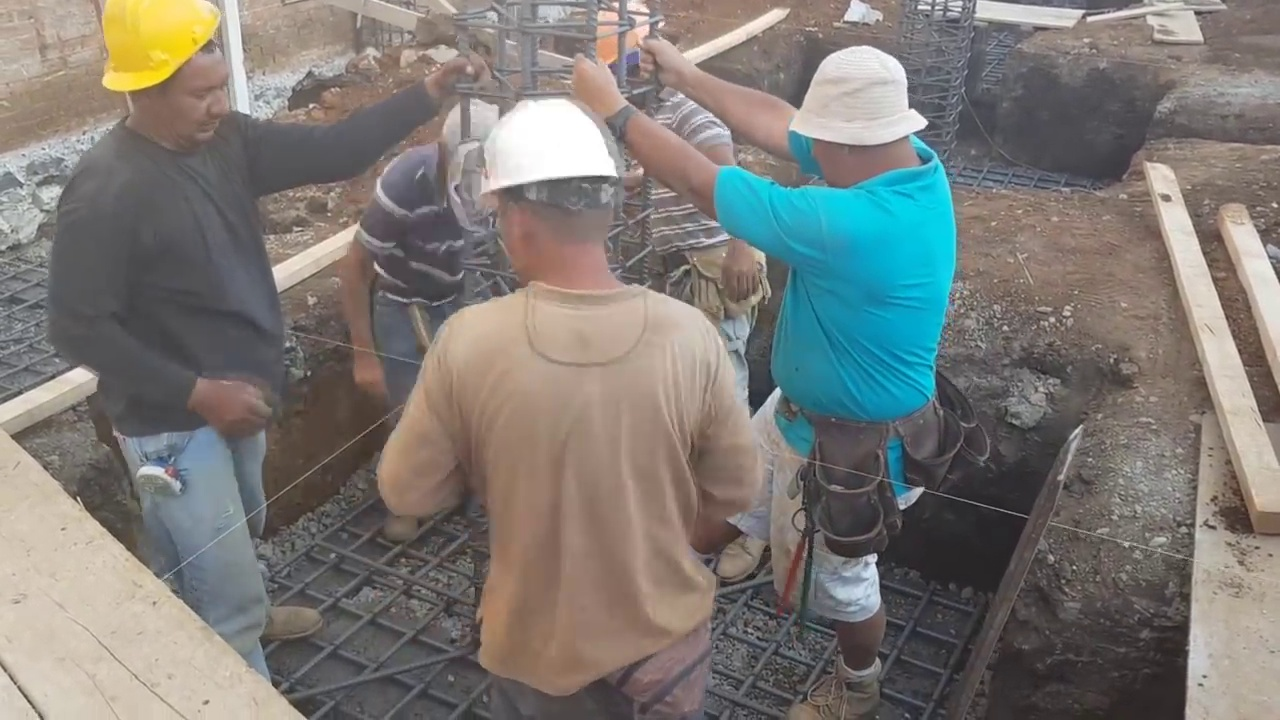helmet: (482, 94, 621, 194), (97, 0, 220, 98)
helmet-off: (789, 46, 930, 189), (432, 98, 505, 174)
helmet-on: (481, 92, 626, 291), (97, 4, 232, 156)
person: (50, 0, 490, 687), (570, 36, 956, 718), (376, 90, 766, 718), (338, 96, 507, 408)
